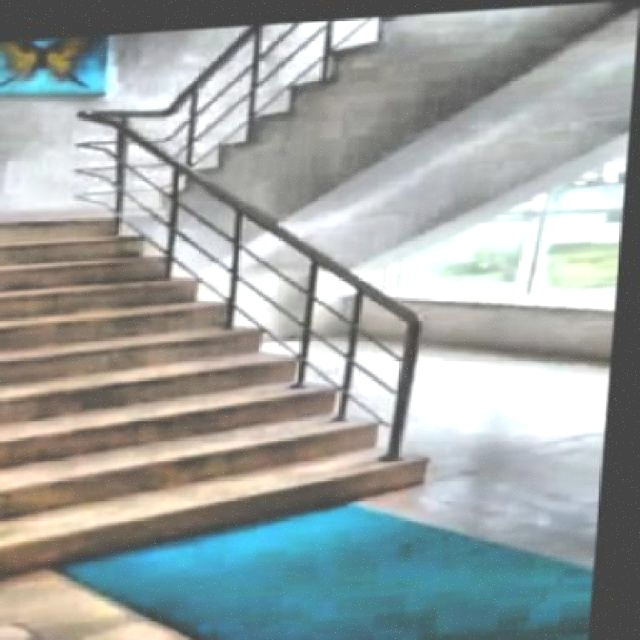stair: (2, 165, 502, 585)
